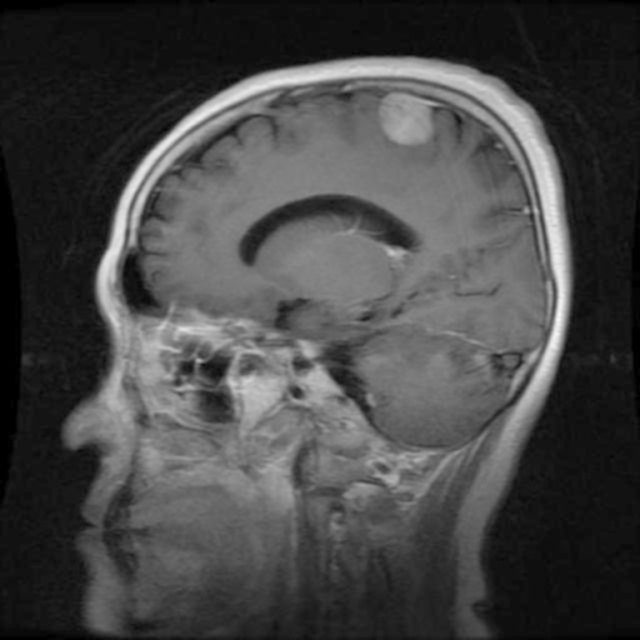meningioma tumor: (373, 84, 458, 158)
